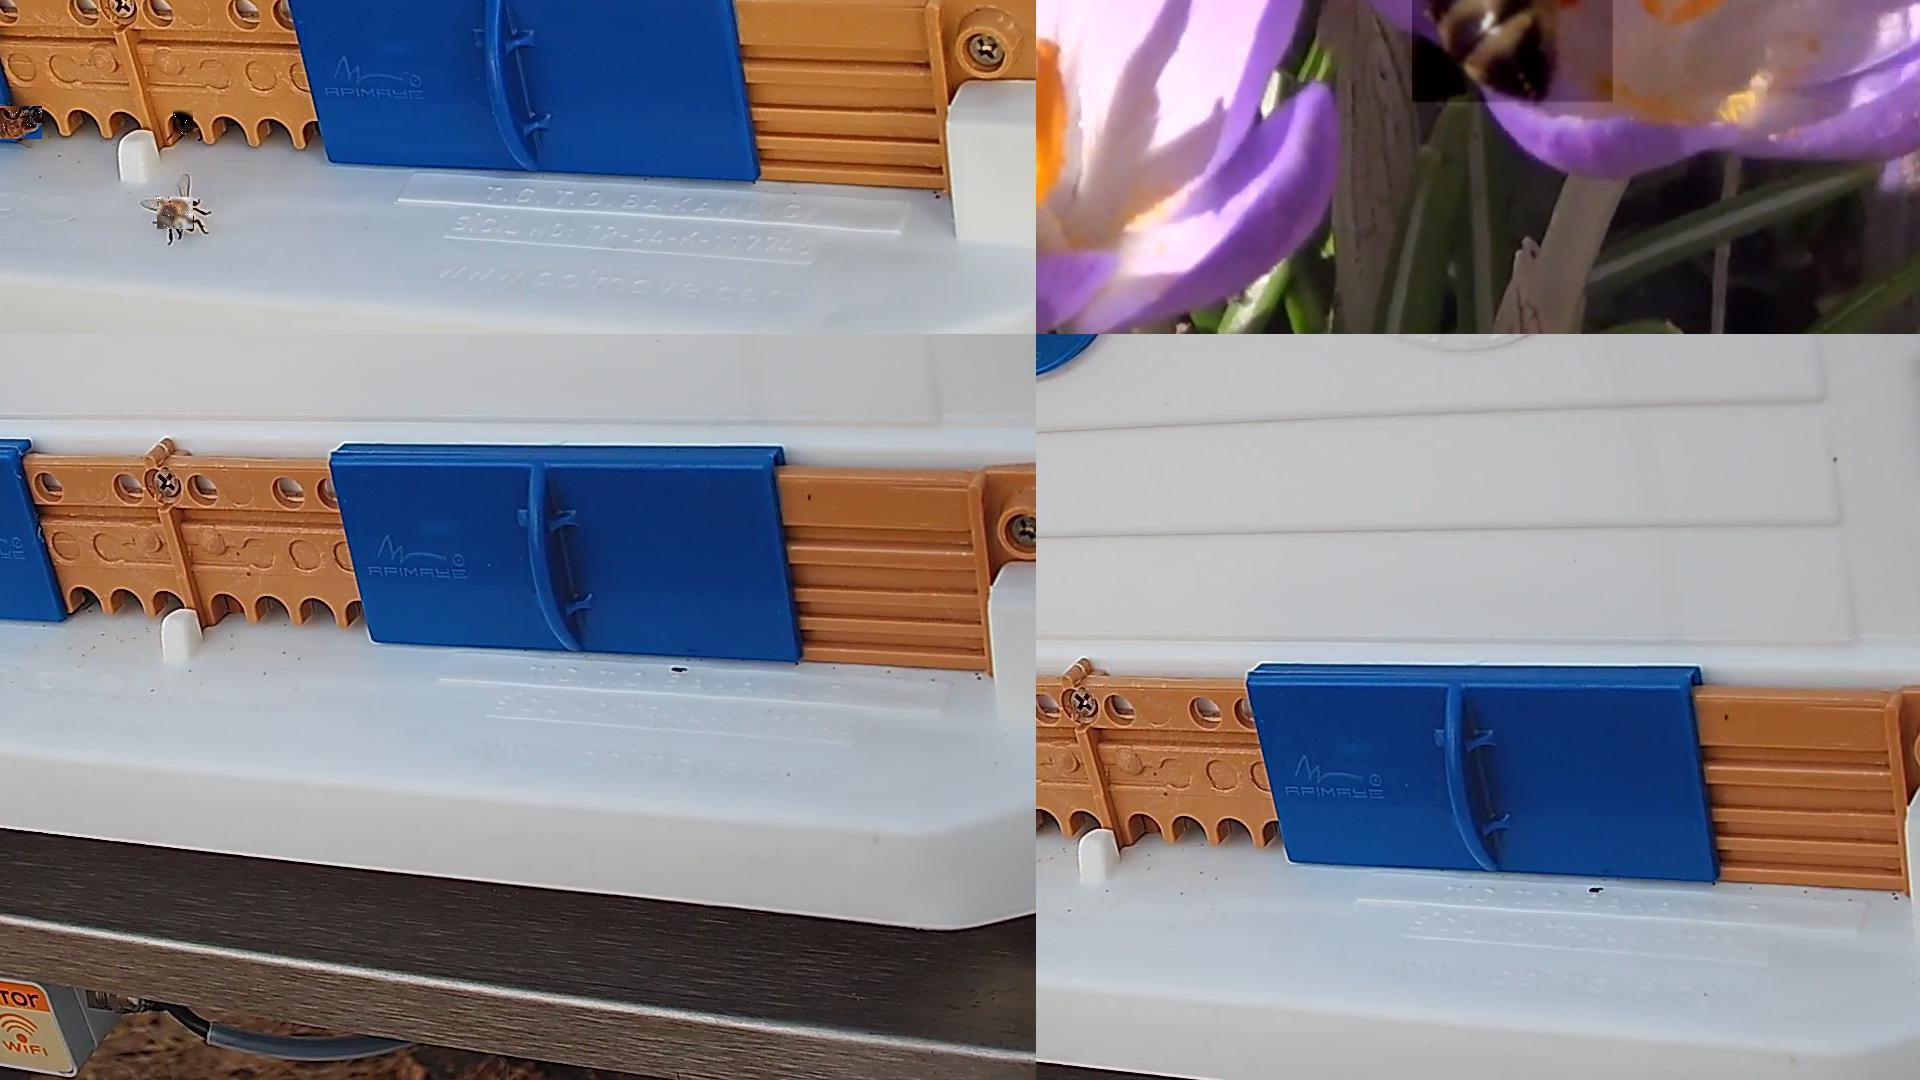bee: (0, 106, 44, 141), (157, 197, 194, 230), (173, 111, 194, 137)
pollenbee: (1412, 0, 1615, 106)
